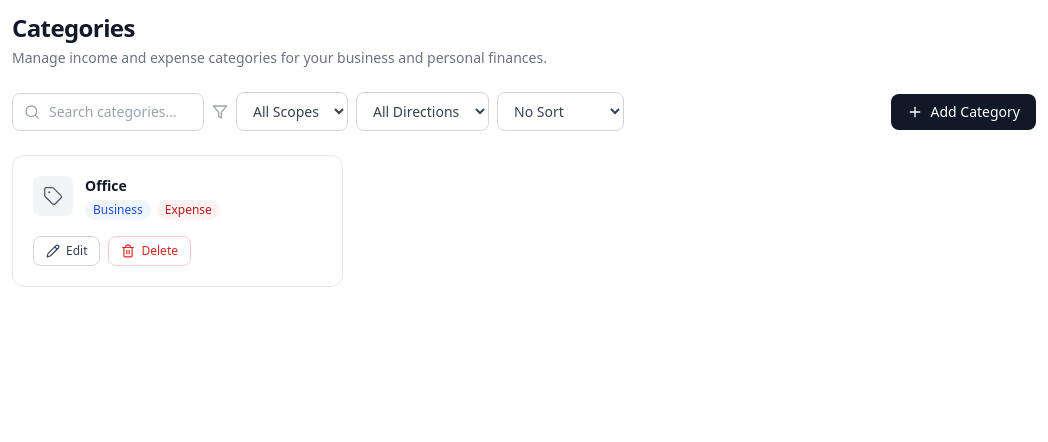
CategoriesPage — empty state › clear filters button resets the list
The width and height of the screenshot is (1048, 442).
Check: the heading "Office" is shown, box top-left (85, 176), bottom-right (127, 195)
Select "Personal" in the dropdown named "Filter by scope" at (292, 112), box top-left (236, 92), bottom-right (348, 131)
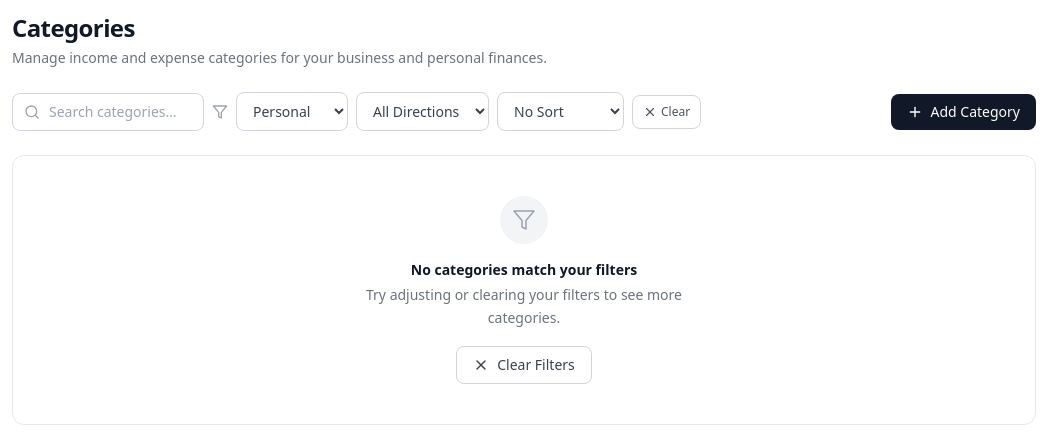
Check: the heading "No categories match your filters" is shown, box top-left (411, 260), bottom-right (637, 280)
Click the button "Clear Filters" at (524, 364), box top-left (456, 346), bottom-right (592, 384)
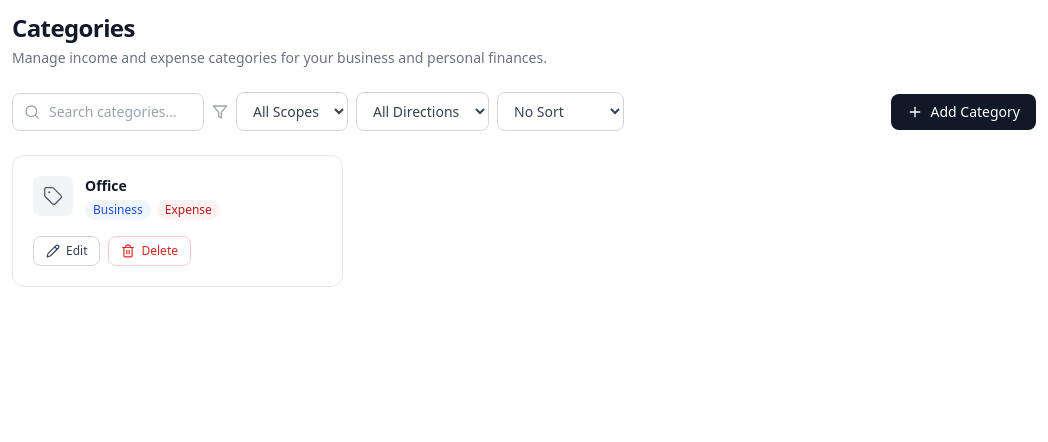
Check: the heading "Office" is shown, box top-left (85, 176), bottom-right (127, 195)
